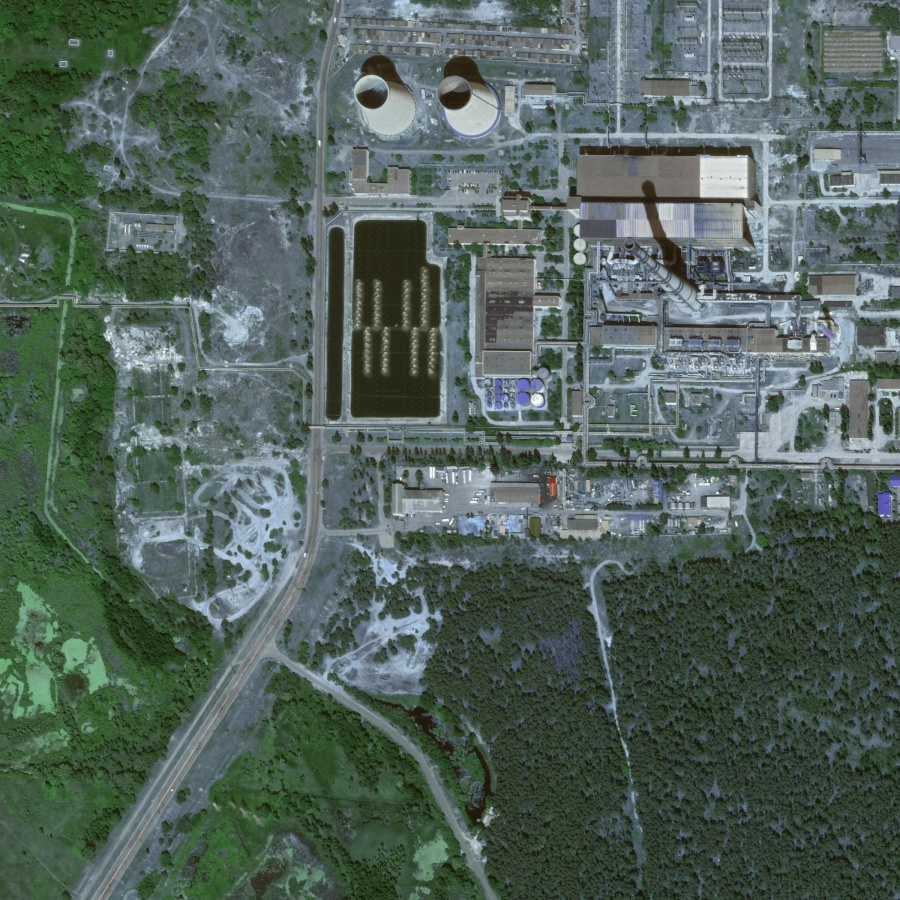PowerPlant: (315, 32, 768, 432)
